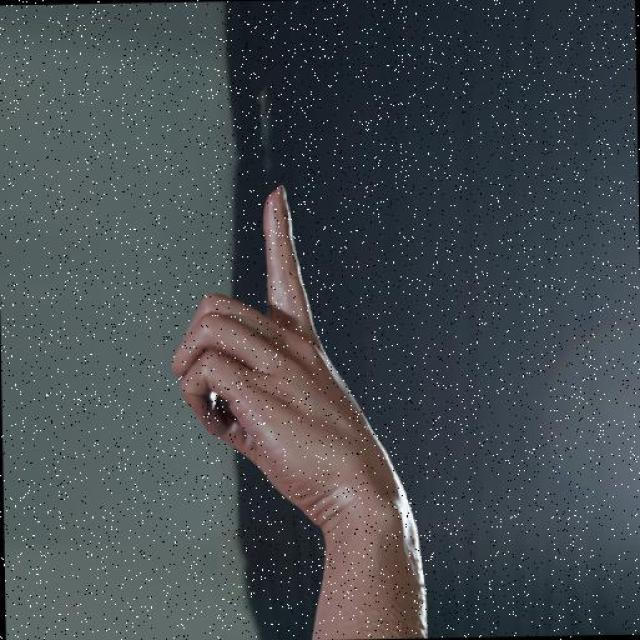X: (167, 171, 398, 534)
